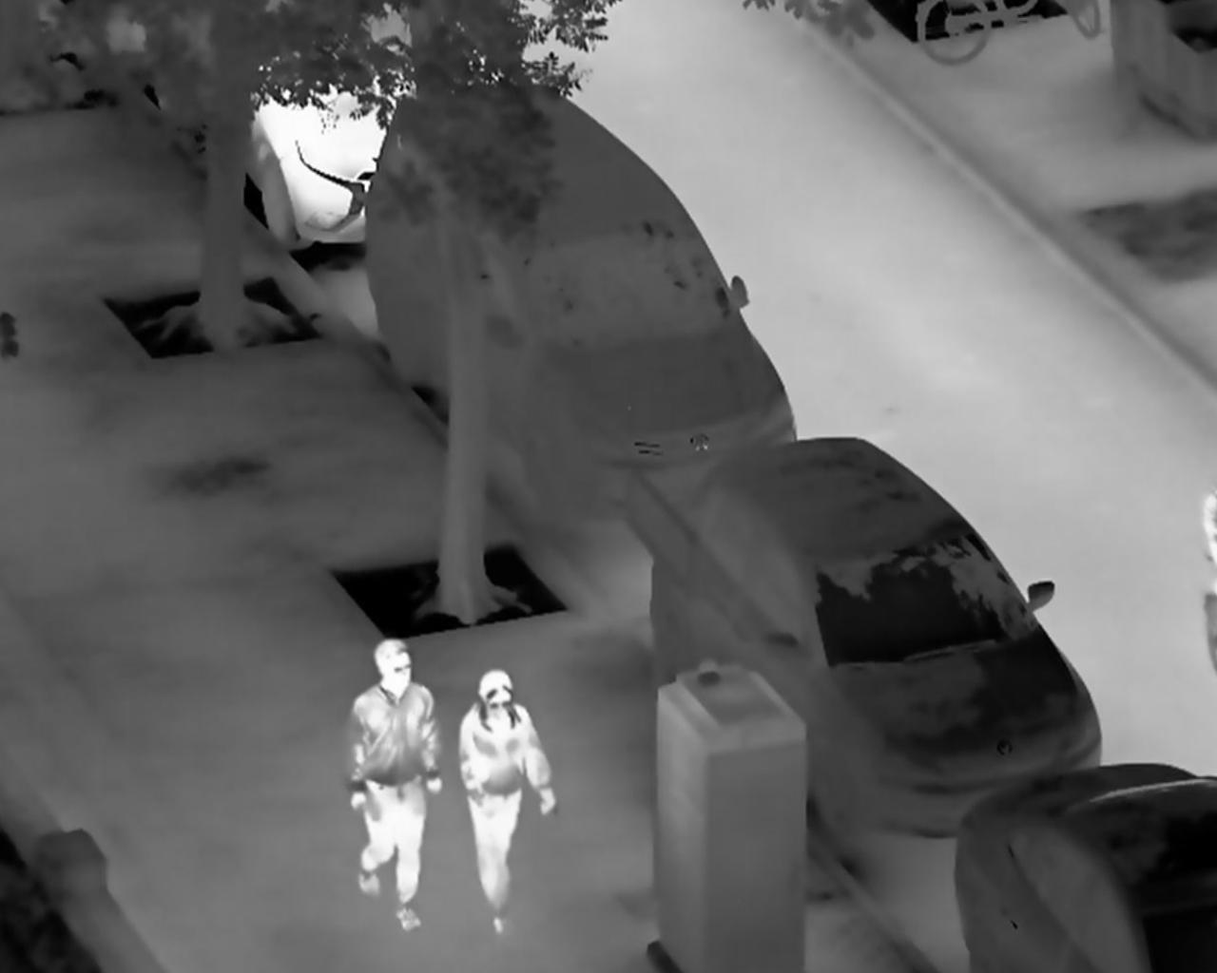person: (343, 636, 441, 938), (458, 667, 560, 941)
